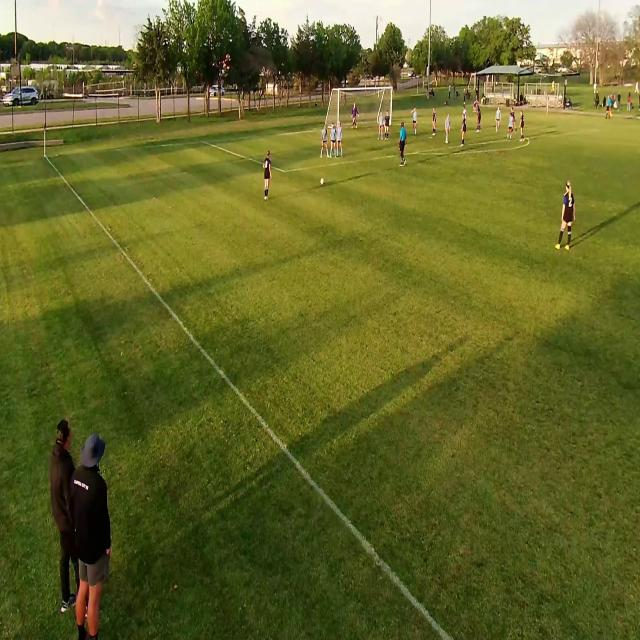ball: (319, 176, 324, 186)
team1: (560, 181, 579, 255), (263, 151, 273, 202), (519, 109, 526, 142), (385, 110, 391, 144), (476, 102, 482, 134), (461, 113, 466, 149), (432, 107, 438, 136), (511, 107, 517, 134)
team2: (320, 123, 328, 158), (506, 112, 514, 142), (337, 120, 343, 158), (445, 114, 452, 146), (330, 122, 336, 158), (495, 106, 501, 134), (412, 108, 418, 136), (378, 113, 384, 141), (462, 106, 468, 118)
